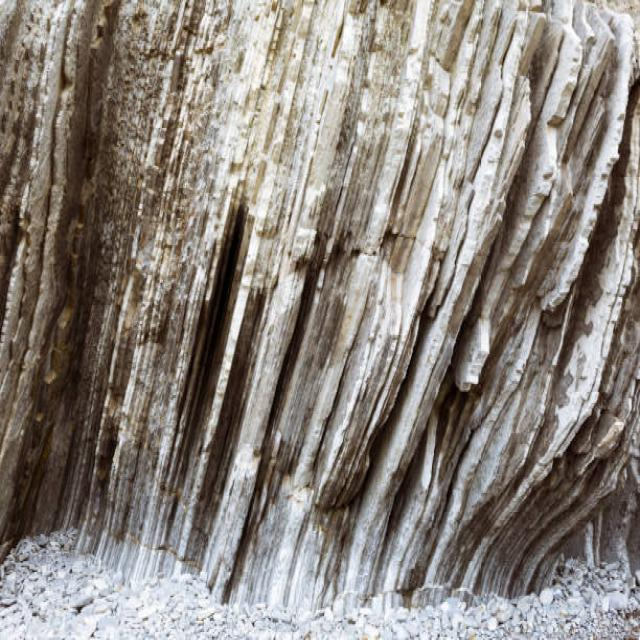Sedimentary: (1, 3, 640, 607)
